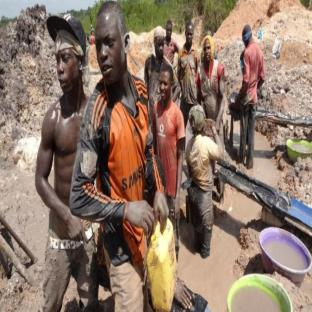Person: (71, 5, 168, 312), (40, 5, 98, 312), (186, 103, 228, 259), (155, 67, 185, 243), (237, 27, 271, 174), (196, 35, 228, 130)
